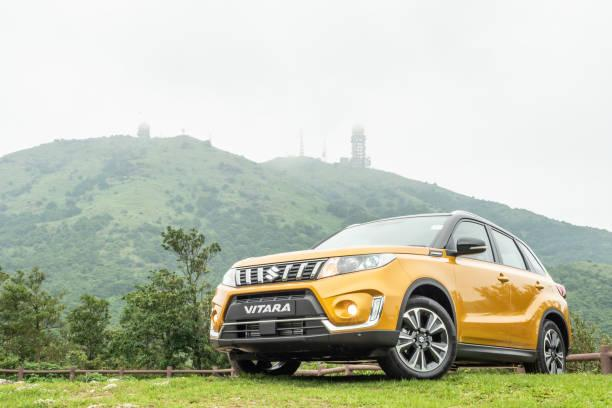suzuki: (261, 264, 285, 283)
